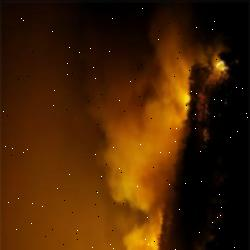fire: (188, 47, 233, 90)
